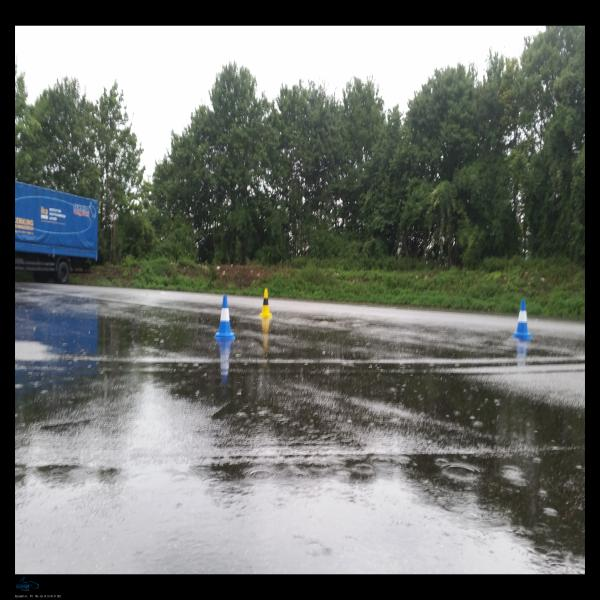blue_cone: (214, 295, 236, 340), (513, 299, 532, 340)
yellow_cone: (260, 288, 273, 316)
